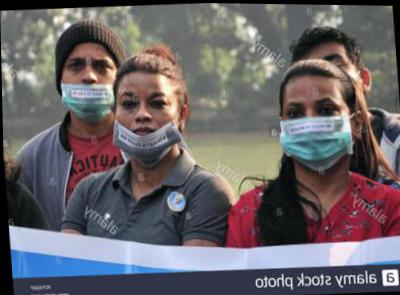OK: (281, 91, 356, 171)
WRONG: (112, 84, 182, 166), (57, 50, 124, 124)
